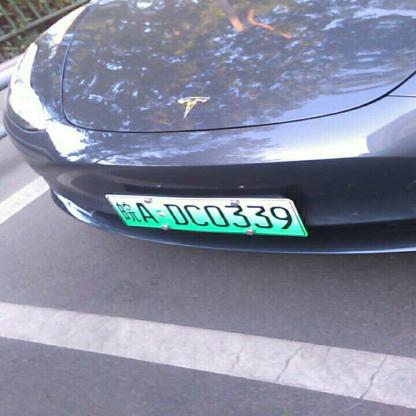lp: (106, 193, 308, 236)
